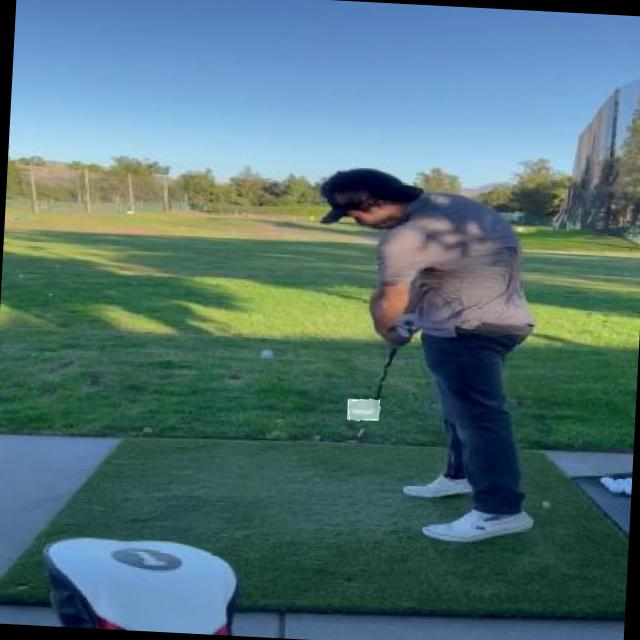club head: (348, 398, 380, 422)
